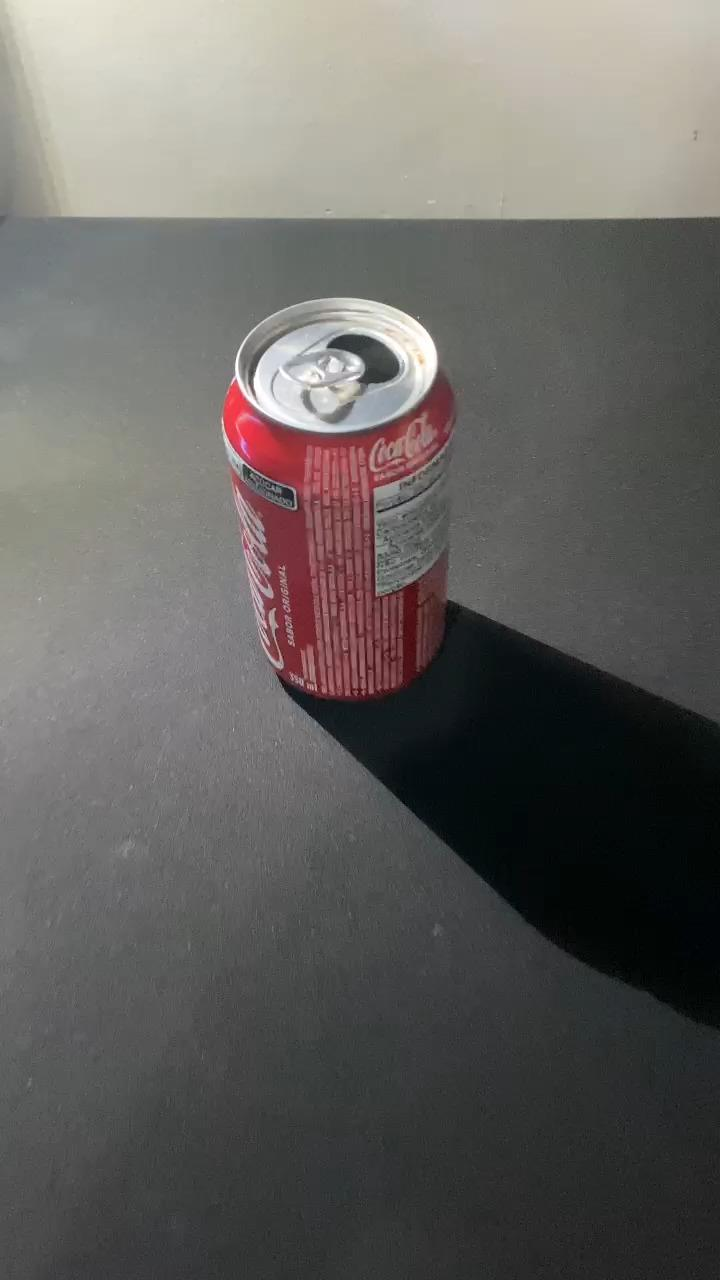coke: (212, 290, 460, 705)
